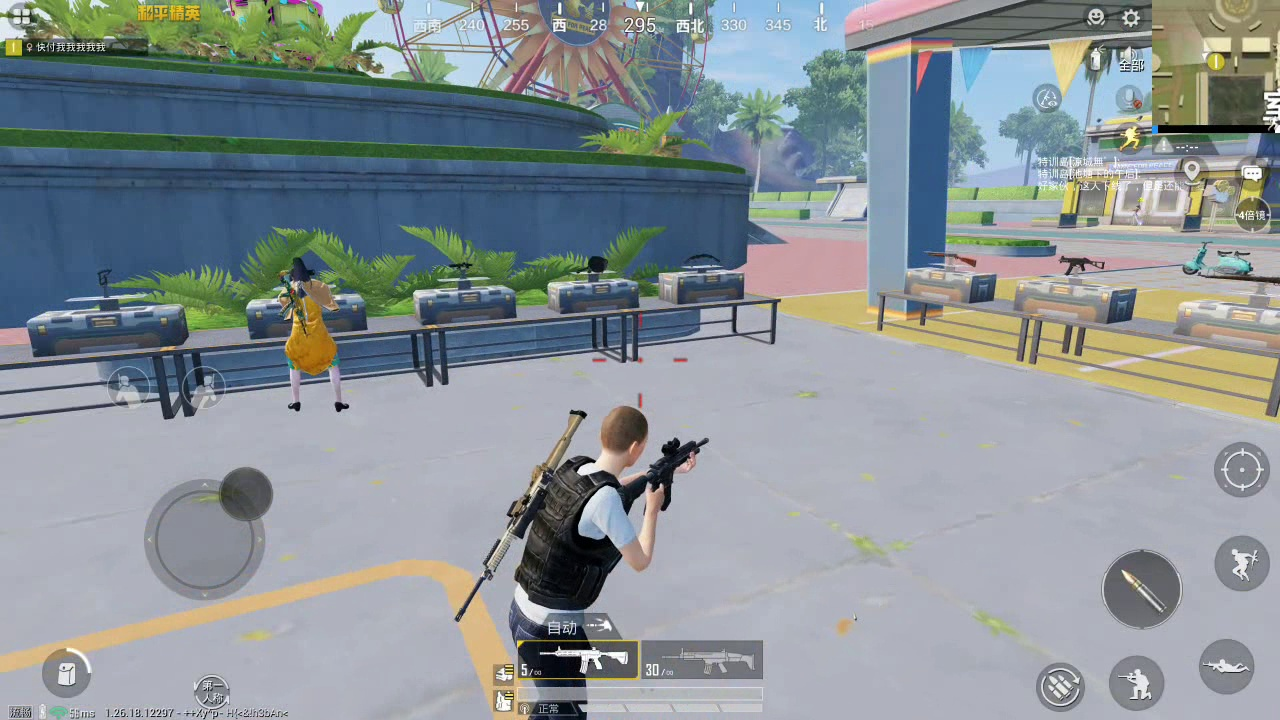enemy: (278, 258, 351, 414)
